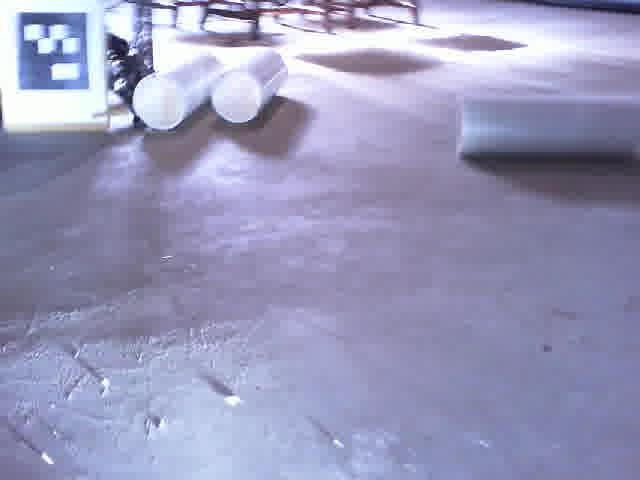coral: (450, 84, 640, 165), (132, 45, 224, 135), (206, 43, 291, 130)
